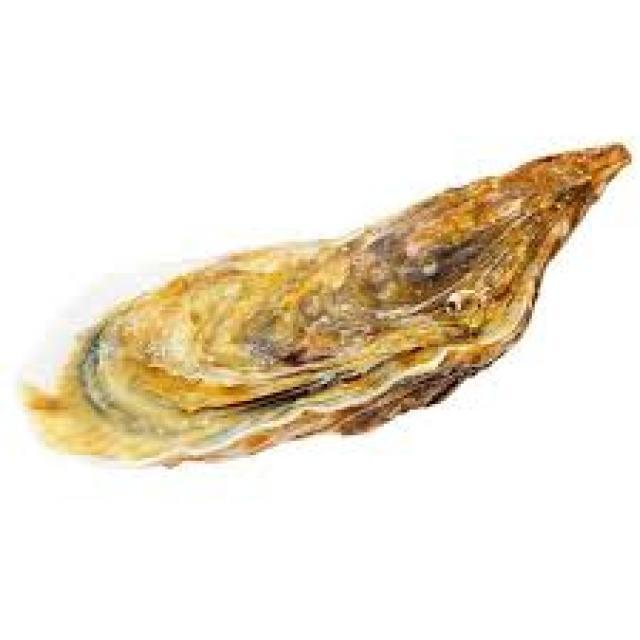Oyster- Indeterminate: (15, 144, 632, 471)
